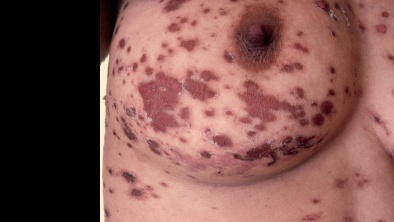SJS-TEN: (103, 0, 360, 221), (290, 0, 394, 70), (294, 163, 377, 221)
